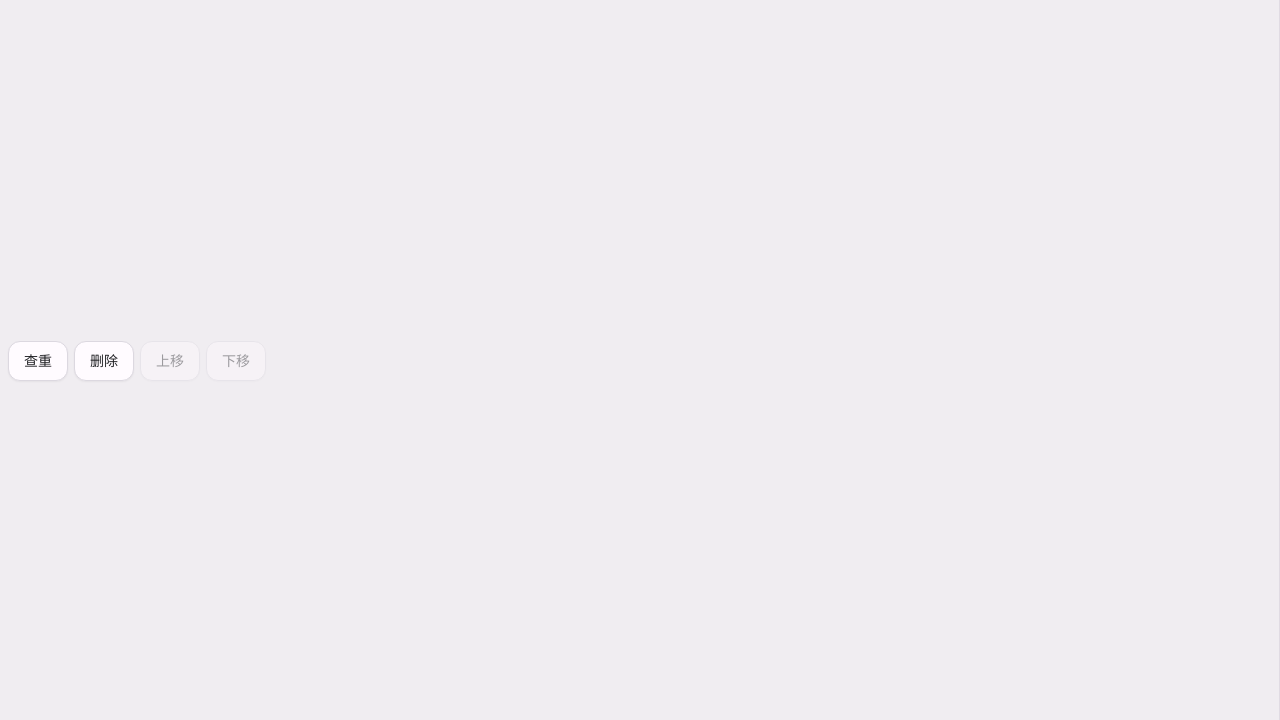
Scenario: ComposeWorkspace automatic composition and duplicate scope › reuses the existing report threshold when checking a changed question list
Later steps or results of the test are not shown.
(page scrolled)
Click the button "查重" at (38, 361), box [8,341,68,381]
(page scrolled)
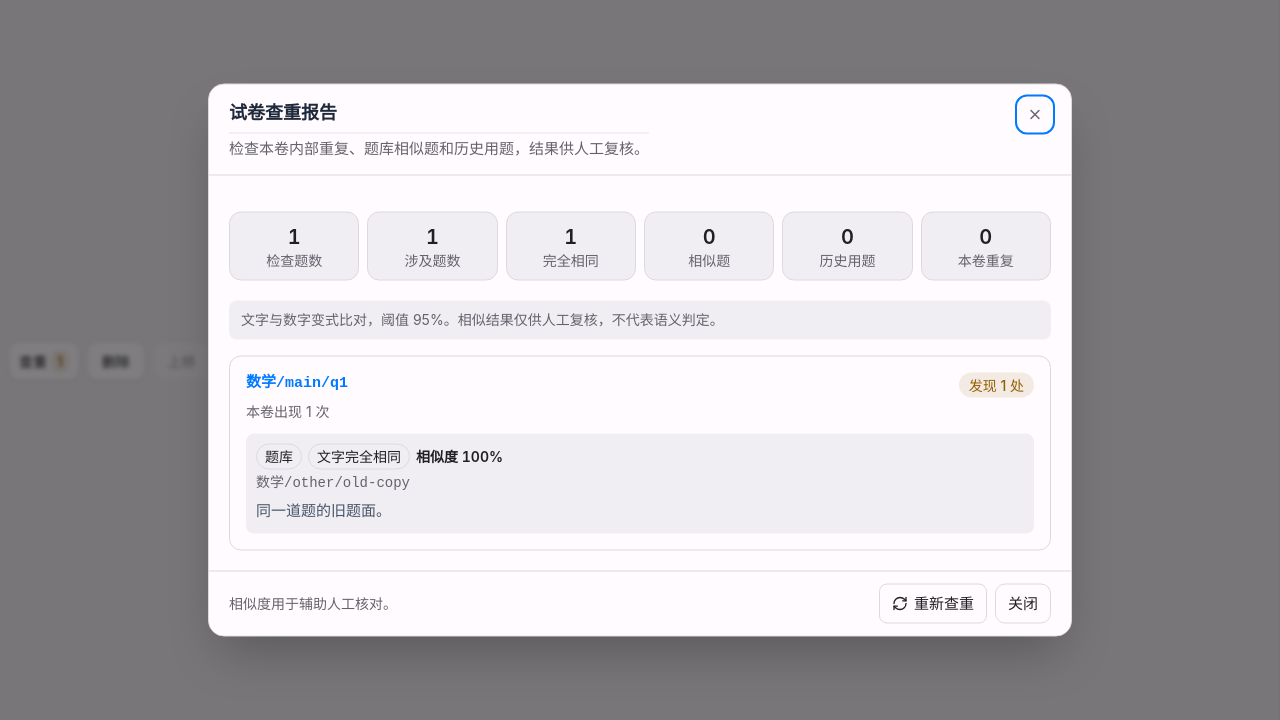
Result: the text "文字与数字变式比对，阈值 95%。相似结果仅供人工复核，不代表语义判定。" is shown at [229,301,1051,339]
